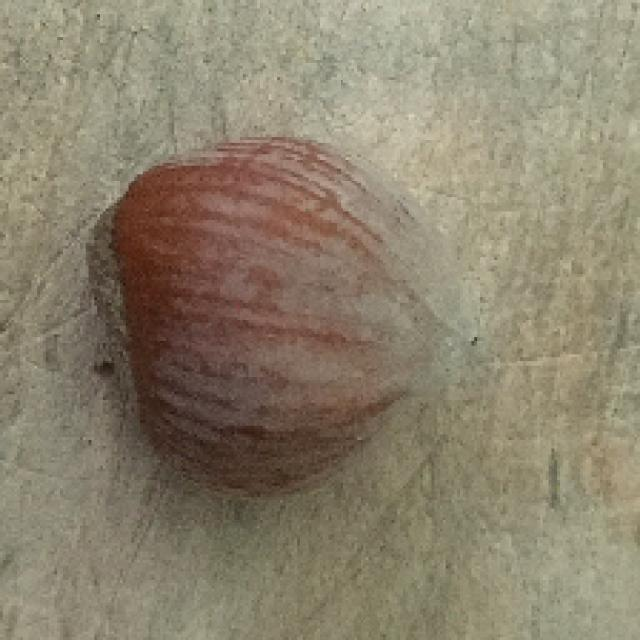qualityHazelnut: (88, 130, 483, 487)
